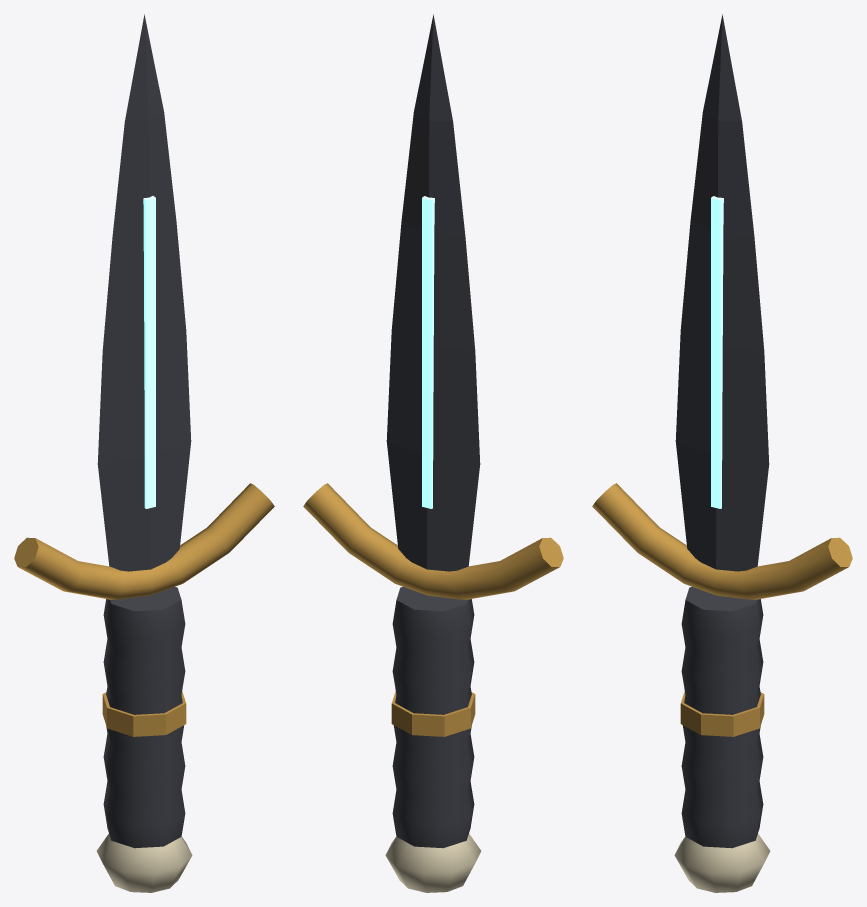
File: athame.glb
The picture shows the model from 3 angles, left to right: view 1: azimuth 30°, elevation 25°; view 2: azimuth 150°, elevation 25°; view 3: azimuth 330°, elevation 25°; orthographic projection.
Parts seen in each view (by area): view 1: Athame_Blade, Athame_Grip, Athame_Fittings, Athame_Inlay, Athame_Pommel; view 2: Athame_Blade, Athame_Grip, Athame_Fittings, Athame_Inlay, Athame_Pommel; view 3: Athame_Blade, Athame_Grip, Athame_Fittings, Athame_Inlay, Athame_Pommel.
Part boxes in pixels (x1,y1,x2,y2): Athame_Blade: [97, 14, 191, 571]; Athame_Grip: [103, 587, 185, 848]; Athame_Fittings: [14, 483, 274, 736]; Athame_Inlay: [143, 196, 155, 508]; Athame_Pommel: [96, 834, 192, 892]; Athame_Blade: [386, 14, 480, 571]; Athame_Grip: [392, 587, 474, 848]; Athame_Fittings: [303, 483, 563, 736]; Athame_Inlay: [422, 196, 434, 508]; Athame_Pommel: [385, 834, 481, 892]; Athame_Blade: [675, 14, 769, 571]; Athame_Grip: [681, 587, 763, 848]; Athame_Fittings: [592, 483, 852, 736]; Athame_Inlay: [711, 196, 723, 508]; Athame_Pommel: [674, 834, 770, 892].
Bounding box in the file's own units: 0.1032 × 0.34 × 0.0323.
